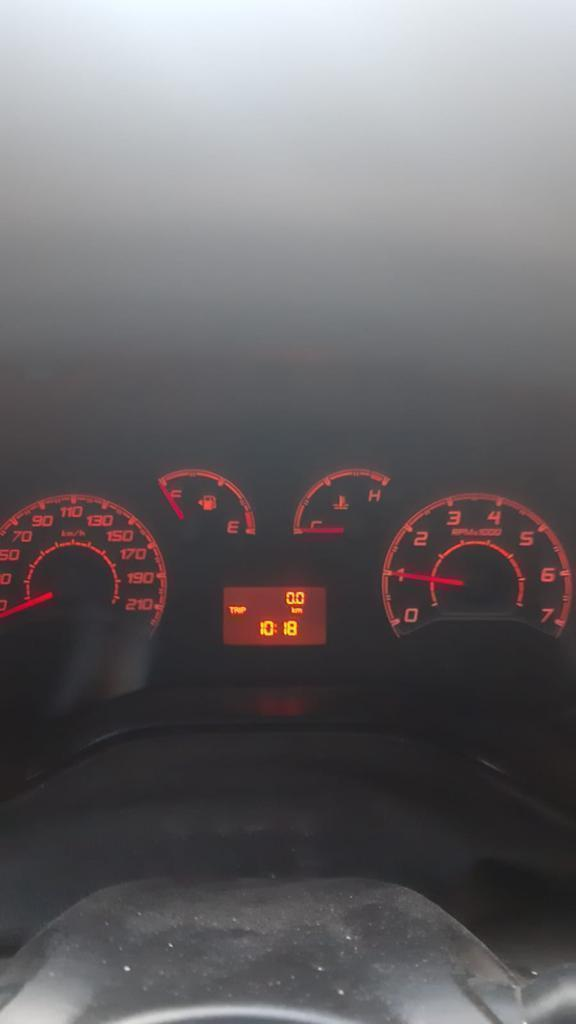,: (293, 601, 296, 605)
0: (263, 620, 273, 636), (285, 591, 294, 604), (295, 591, 304, 604)
1: (258, 620, 263, 636), (282, 621, 286, 635)
8: (287, 620, 297, 636)
X: (228, 605, 234, 614), (273, 623, 277, 634), (291, 605, 296, 613), (296, 607, 302, 613), (241, 606, 245, 614), (234, 606, 238, 614), (238, 606, 241, 613)
odometer: (215, 580, 333, 651)
